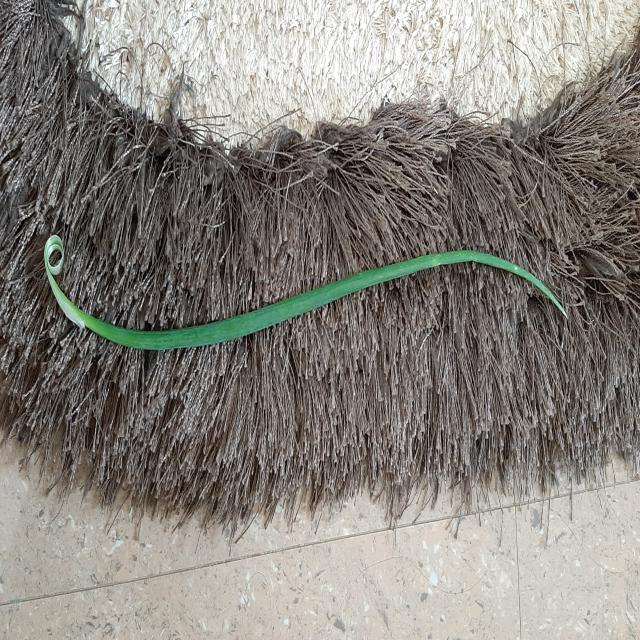onion: (44, 233, 566, 350)
